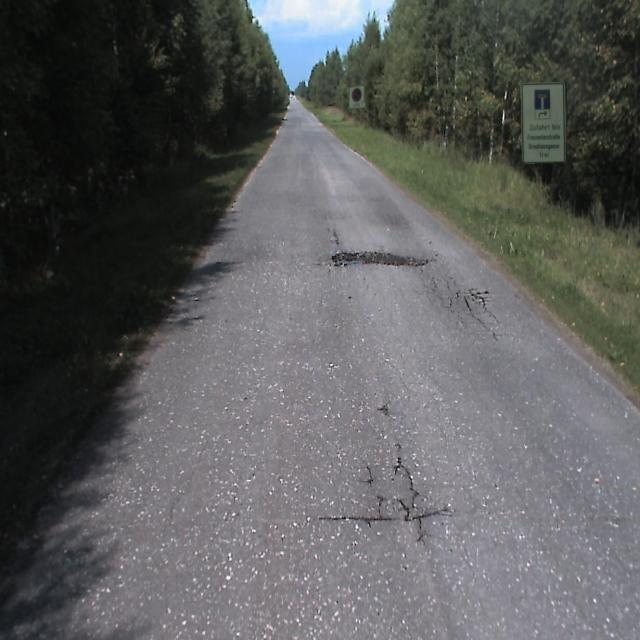road: (0, 98, 639, 639)
